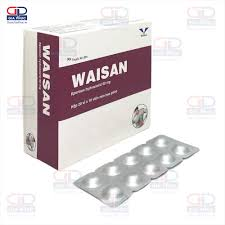Mekocefaclor: (73, 57, 129, 87), (43, 44, 53, 115)
